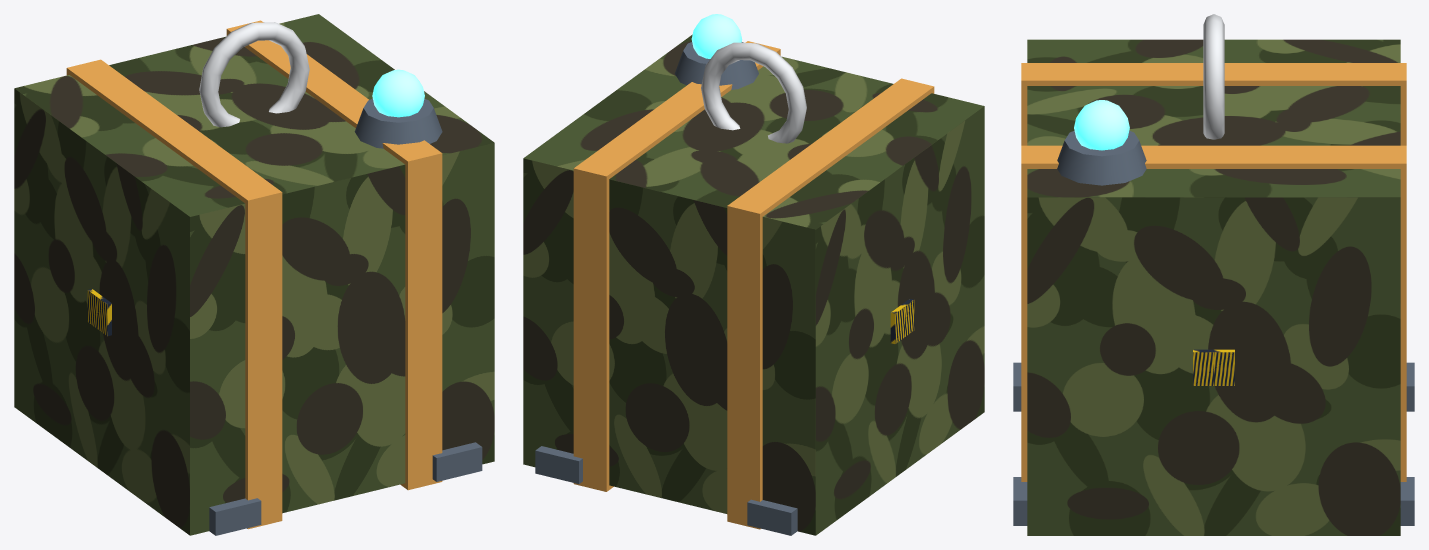
File: supply_drop_crate.glb
3 renders of one model, left to right at view 1: azimuth 30°, elevation 25°; view 2: azimuth 150°, elevation 25°; view 3: azimuth 270°, elevation 25°, orthographic. The views are drawn at different scales.
Parts seen in each view (by area): view 1: supply_drop_crate; view 2: supply_drop_crate; view 3: supply_drop_crate.
Boxes of the visible parts, x1,y1,x2,y2 form: supply_drop_crate: [14, 14, 494, 535]; supply_drop_crate: [523, 14, 984, 535]; supply_drop_crate: [1013, 14, 1414, 535].
Size of the model in its own units: 1.65 by 2.09 by 1.72.
Materials: 6 (2 with a texture image).
